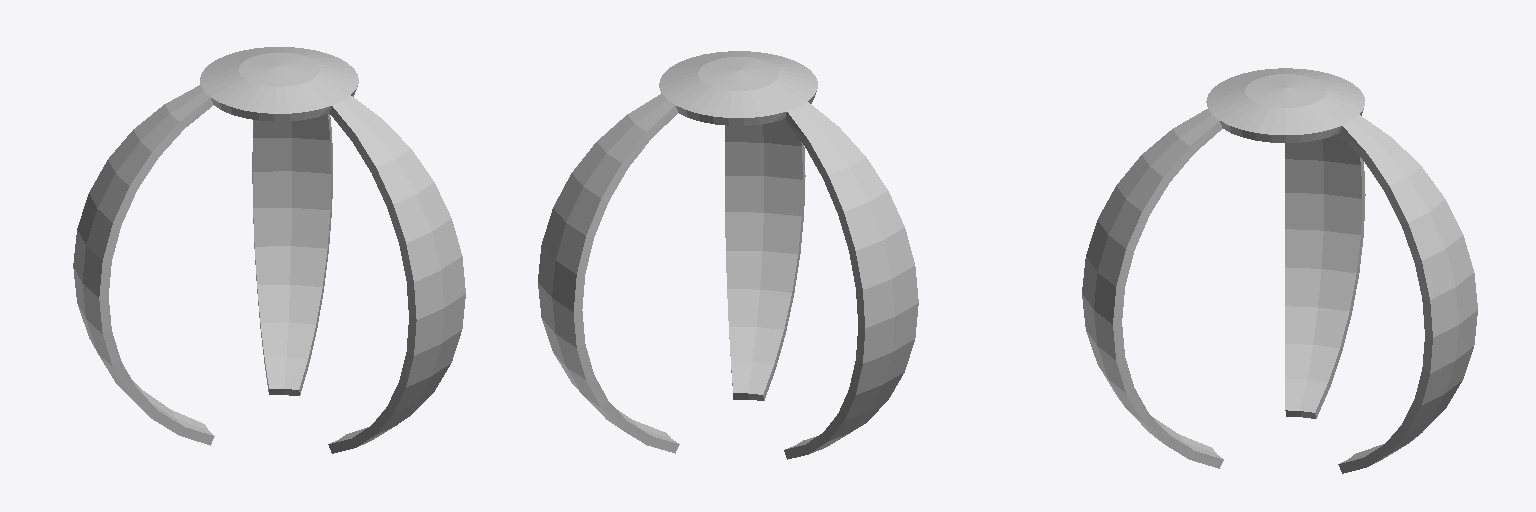
Rendered from Tr-Grue-Pince.obj.
3 views of the same model, side by side, from view 1: azimuth 30°, elevation 25°; view 2: azimuth 150°, elevation 25°; view 3: azimuth 270°, elevation 25° (orthographic).
Parts seen in each view (by area): view 1: Tr-Grue-Pince_Pince_Sphere; view 2: Tr-Grue-Pince_Pince_Sphere; view 3: Tr-Grue-Pince_Pince_Sphere.
Part boxes in pixels (bbox=[...]): Tr-Grue-Pince_Pince_Sphere: bbox=[73, 47, 465, 453]; Tr-Grue-Pince_Pince_Sphere: bbox=[538, 51, 918, 459]; Tr-Grue-Pince_Pince_Sphere: bbox=[1082, 68, 1477, 473].
Size of the model in its own units: 0.6828 by 0.7696 by 0.7619.